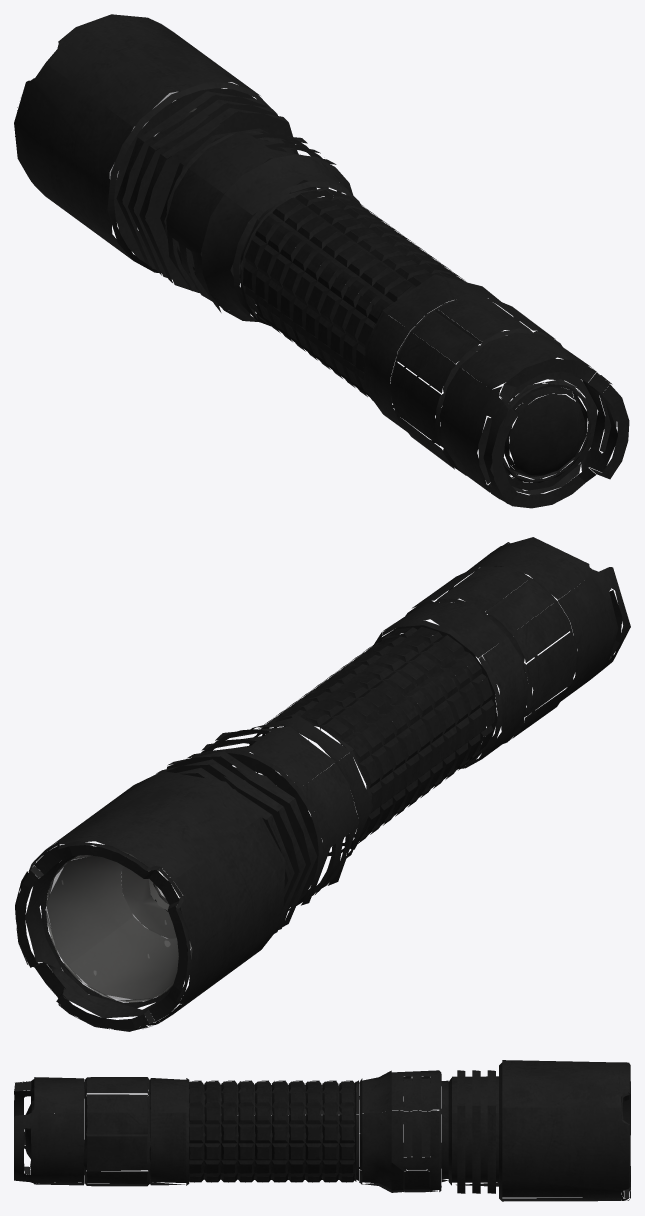
Rendered from flashlight.glb.
3 renders of one model, top to bottom at view 1: azimuth 30°, elevation 25°; view 2: azimuth 150°, elevation 25°; view 3: azimuth 270°, elevation 25°, orthographic. The views are drawn at different scales.
Parts seen in each view (by area): view 1: item; view 2: item; view 3: item.
Part boxes in pixels (<box>): item: <box>14,14,629,508</box>; item: <box>15,537,630,1031</box>; item: <box>14,1060,630,1201</box>.
Bounding box in the file's own units: 0.034 × 0.034 × 0.15.
3 materials, 3 textured.
